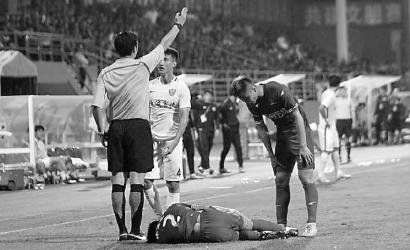fall: (143, 195, 302, 247)
